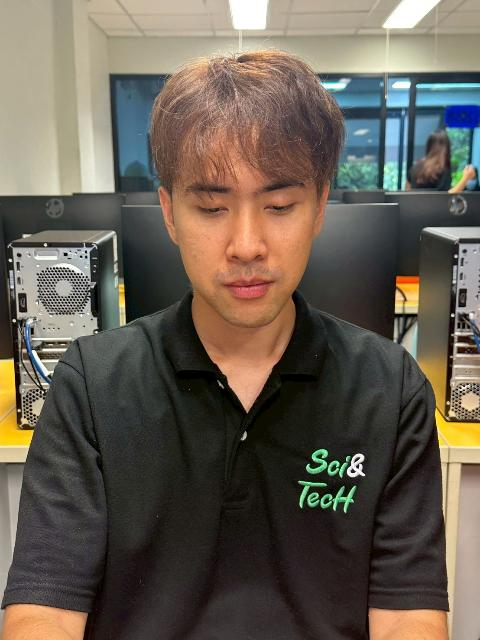fokus: (175, 114, 313, 324)
